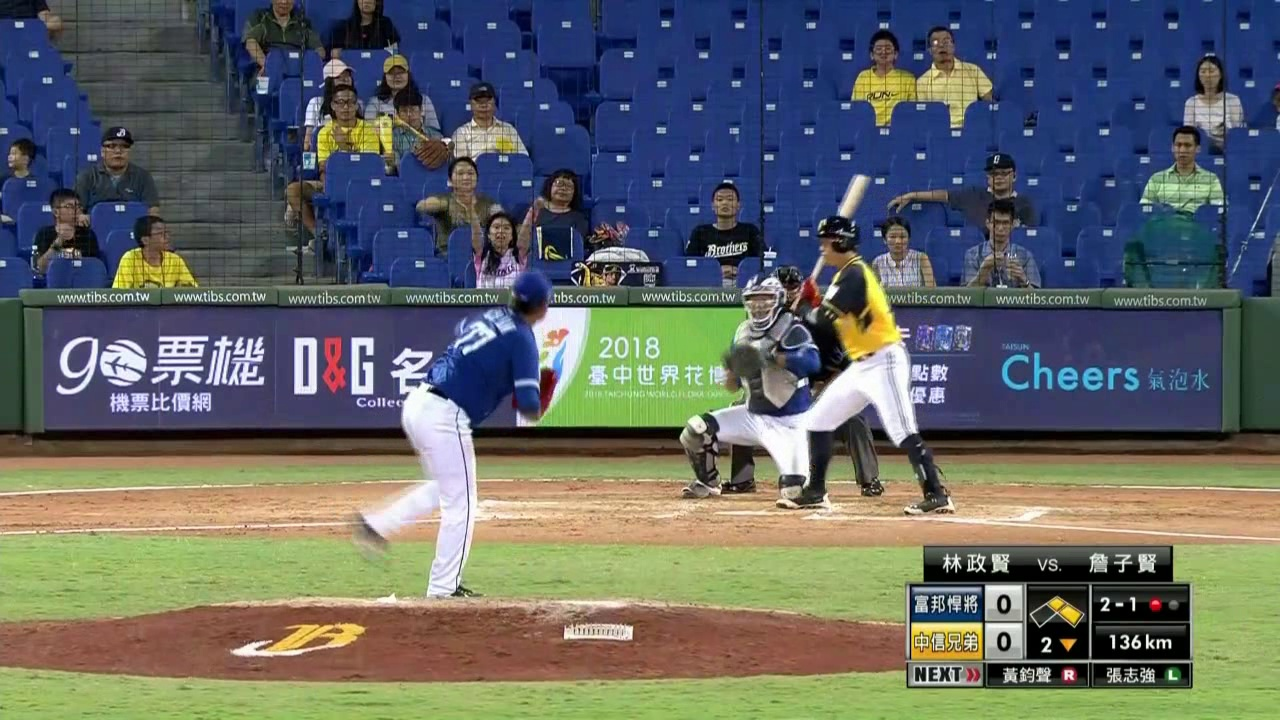base: (1029, 591, 1086, 628)
bat: (809, 172, 873, 283)
out: (1142, 588, 1183, 621)
score1: (987, 588, 1022, 618)
score2: (987, 624, 1024, 656)
session: (1027, 628, 1083, 657)
speed: (1093, 629, 1182, 656)
strikeball: (1092, 588, 1141, 622)
